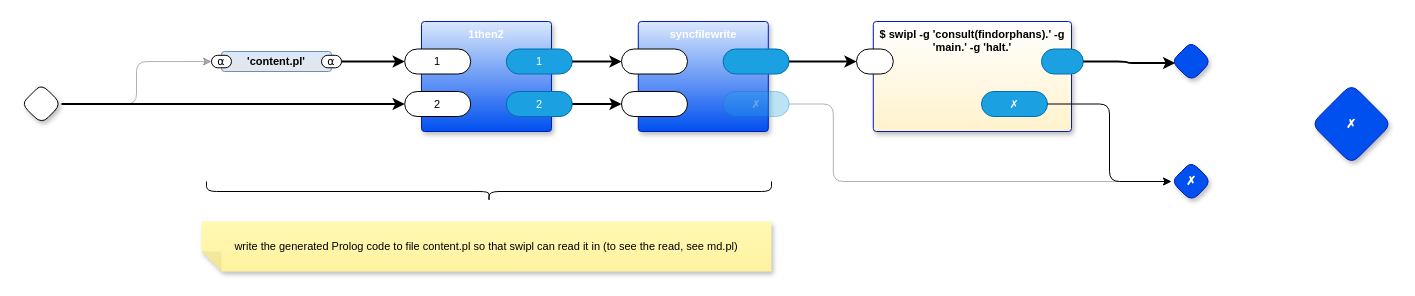
This 1415x296 diagram has some shape labels left out. The centre of each missing label's shape, as x and y in pixels:
"done" belongs at point (755, 61).
"filename" belongs at point (654, 61).
"input" belongs at point (654, 103).
